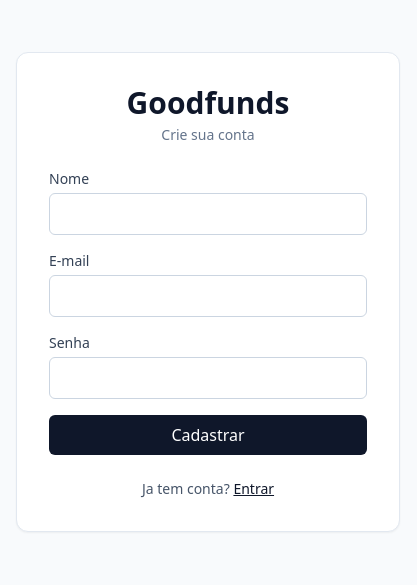
Test: RegisterPage › exibe mensagem de erro quando o cadastro falha
The width and height of the screenshot is (417, 585).
In the field labelled "Nome": (208, 214) [49,193,367,235], type "Fulano"
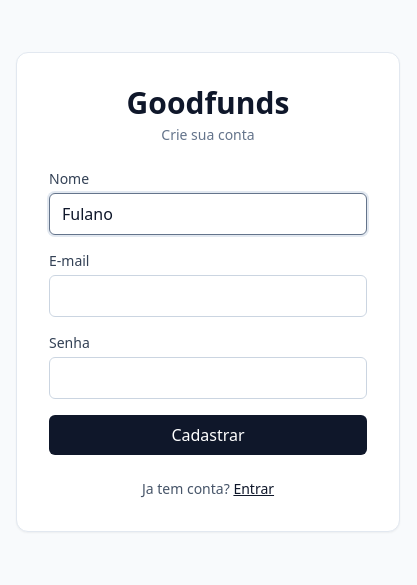
In the field labelled "E-mail": (208, 296) [49,275,367,317], type "novo@b.com"
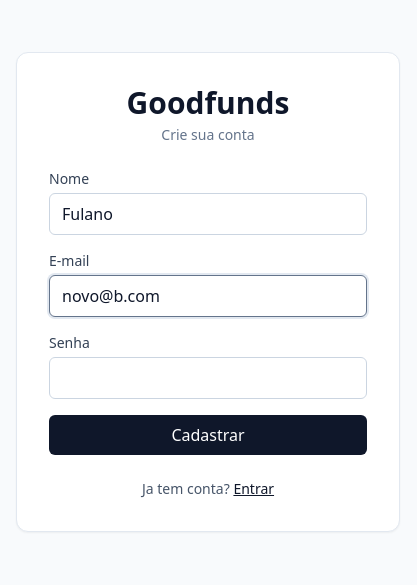
In the password field labelled "Senha": (208, 378) [49,357,367,399], type "segredo12"
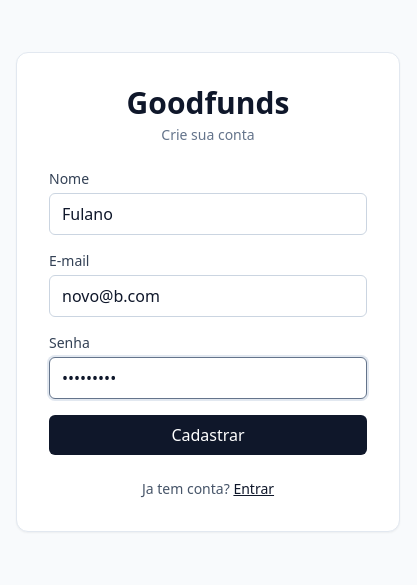
Click the button "Cadastrar": (208, 435) [49,415,367,455]
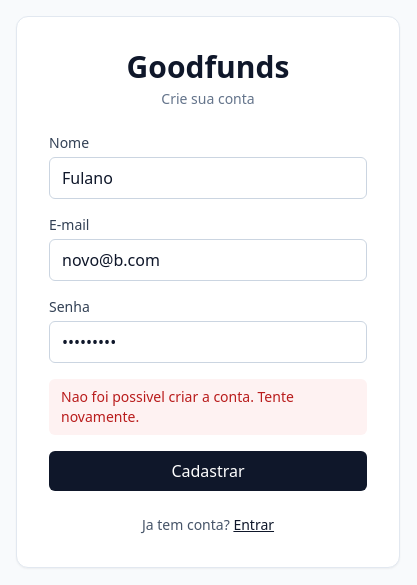
Now the message reads "Nao foi possivel criar a conta. Tente novamente.", box [61,387,294,426]
